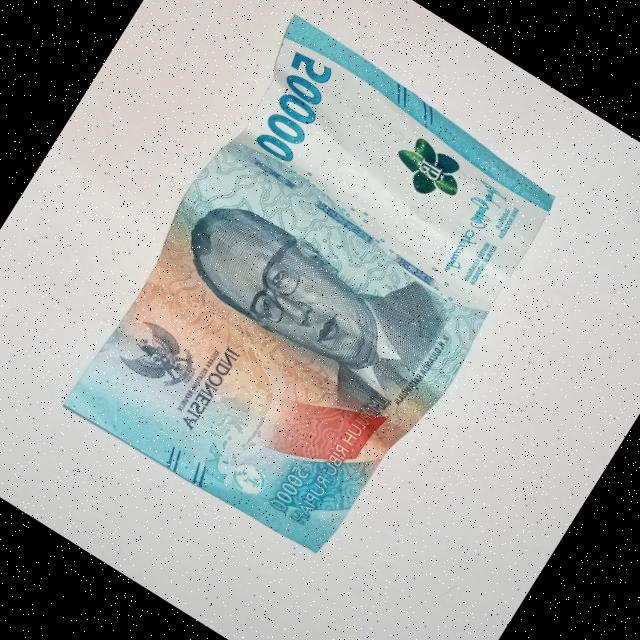50K: (49, 7, 582, 584)
